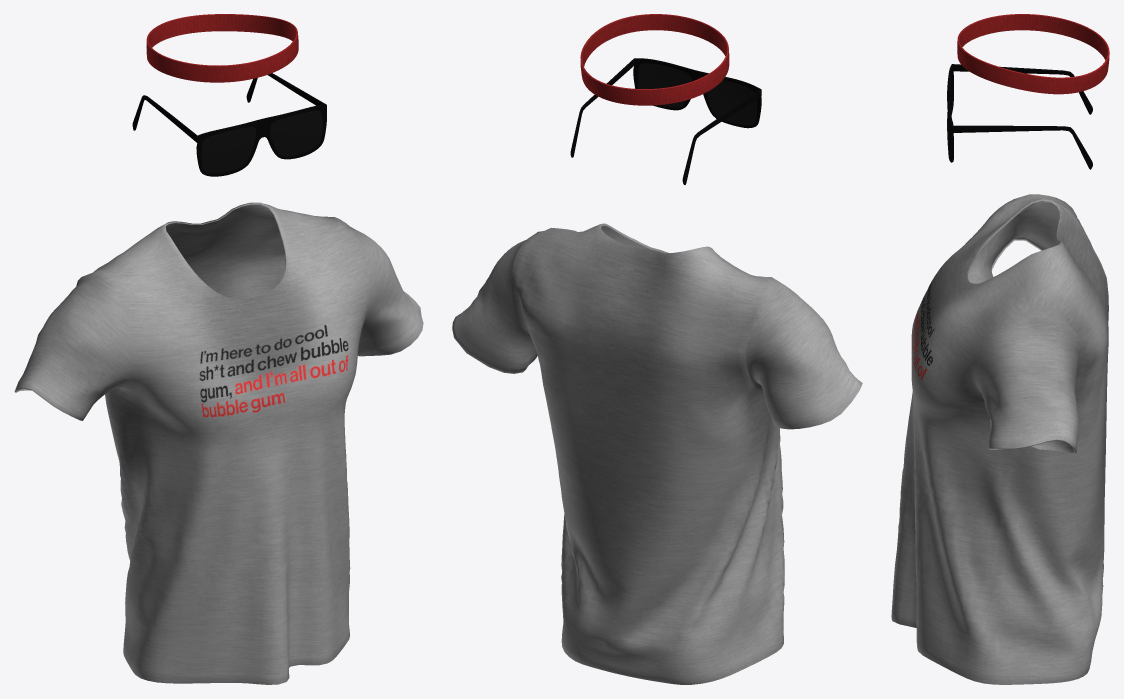
The picture shows the model from 3 angles, left to right: view 1: azimuth 30°, elevation 25°; view 2: azimuth 150°, elevation 25°; view 3: azimuth 270°, elevation 25°; orthographic projection.
Visible parts, largest first — view 1: TShirt, Band, Glass, Frame; view 2: TShirt, Band, Glass, Frame; view 3: TShirt, Band, Frame.
Boxes of the visible parts, bbox=[...] form: TShirt: bbox=[14, 202, 423, 684]; Band: bbox=[146, 14, 298, 82]; Glass: bbox=[201, 110, 323, 173]; Frame: bbox=[132, 73, 326, 176]; TShirt: bbox=[452, 223, 862, 684]; Band: bbox=[580, 14, 729, 105]; Glass: bbox=[637, 63, 757, 125]; Frame: bbox=[570, 58, 761, 184]; TShirt: bbox=[891, 194, 1108, 684]; Band: bbox=[957, 14, 1109, 94]; Frame: bbox=[948, 64, 1092, 169].
Bounding box in the file's own units: 0.6601 × 0.9829 × 0.3186.
Materials: 4 (2 with a texture image).
